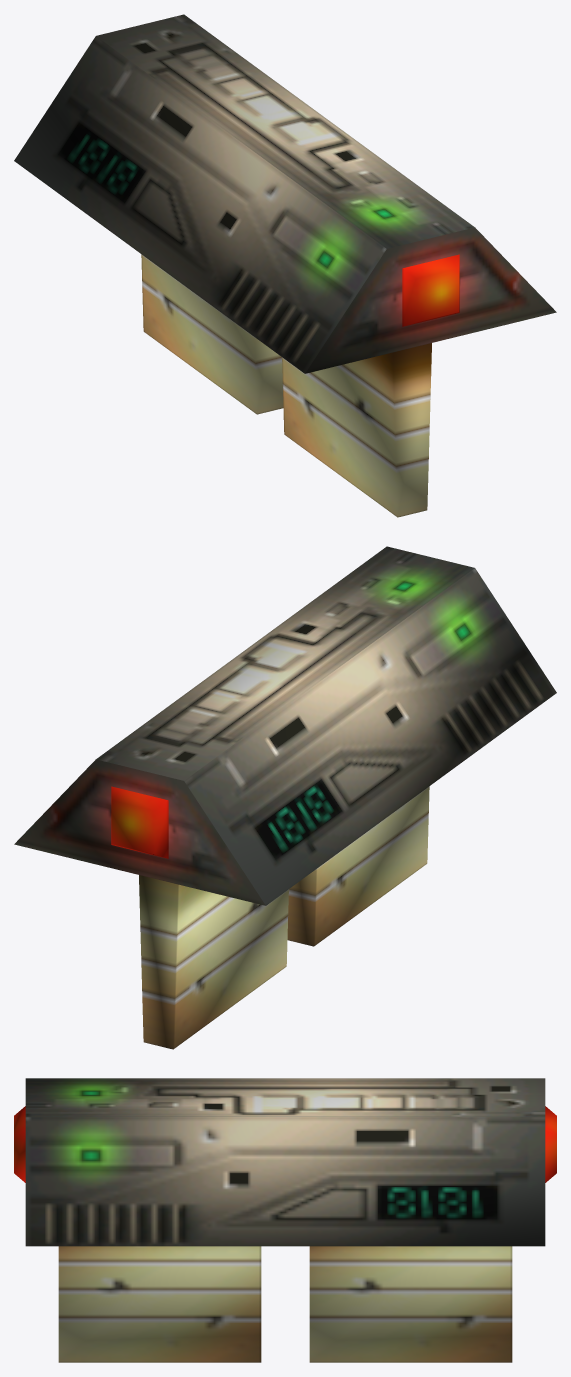
The model's file is acs29.glb.
3 renders of one model, top to bottom at view 1: azimuth 30°, elevation 25°; view 2: azimuth 150°, elevation 25°; view 3: azimuth 270°, elevation 25°, orthographic. The views are drawn at different scales.
Parts seen in each view (by area): view 1: acs29; view 2: acs29; view 3: acs29.
Boxes of the visible parts, left/top/right/bottom form: acs29: left=14, top=14, right=556, bottom=517; acs29: left=14, top=546, right=556, bottom=1049; acs29: left=14, top=1078, right=556, bottom=1362.
Size of the model in its own units: 0.1159 by 0.1271 by 0.2422.
1 material, 1 textured.
